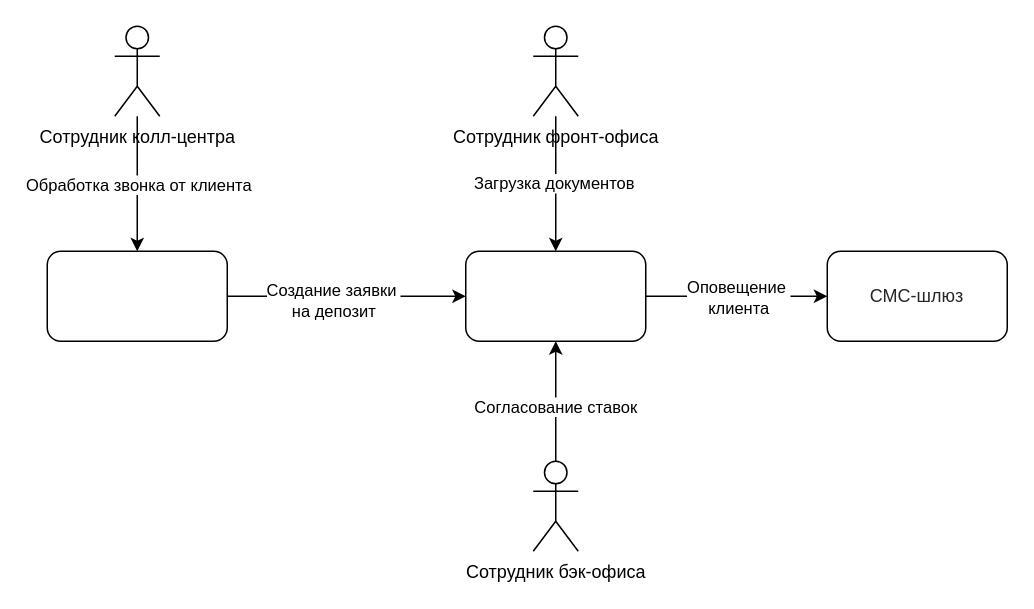
This 1034x609 diagram has some shape labels left out. The centre of each missing label's shape, as x and y in pixels:
"АБС" belongs at (x=555, y=295).
"Система колл-центра" belongs at (x=136, y=295).
